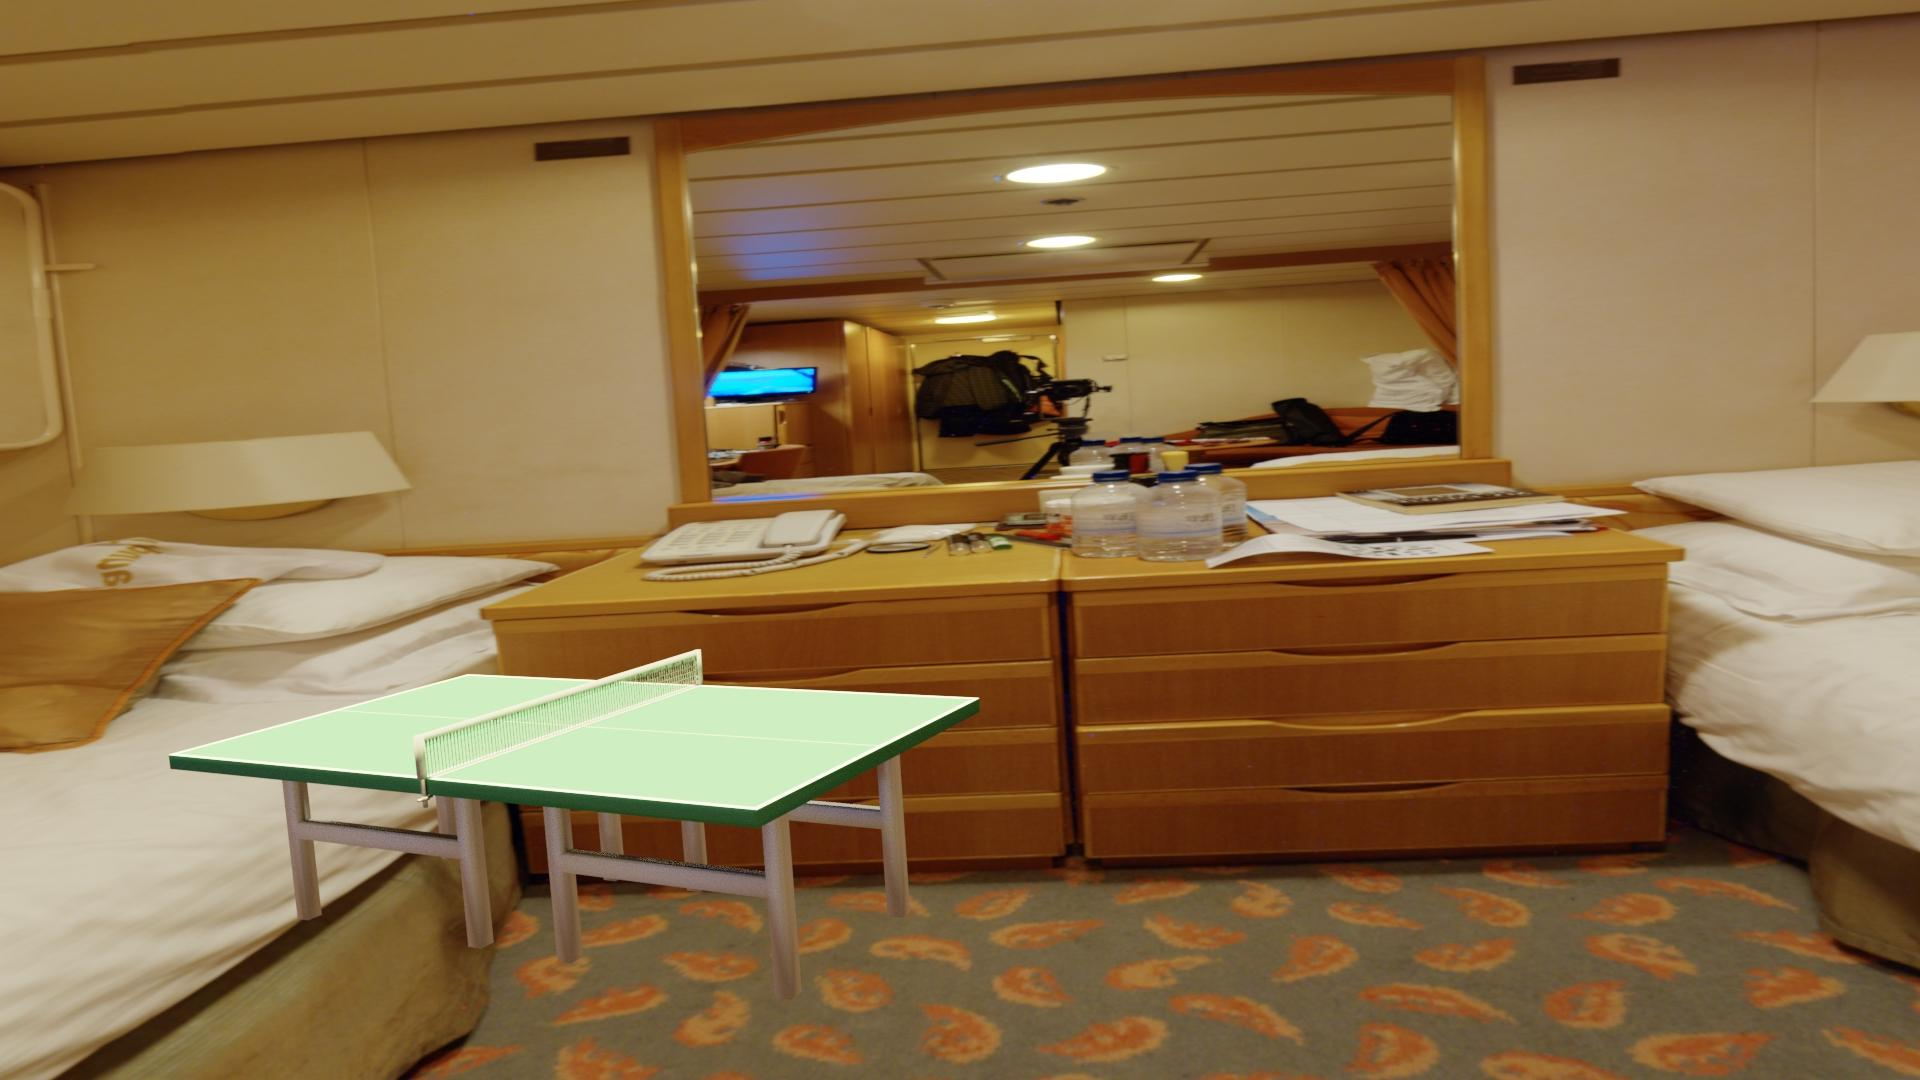table: (177, 675, 972, 807)
